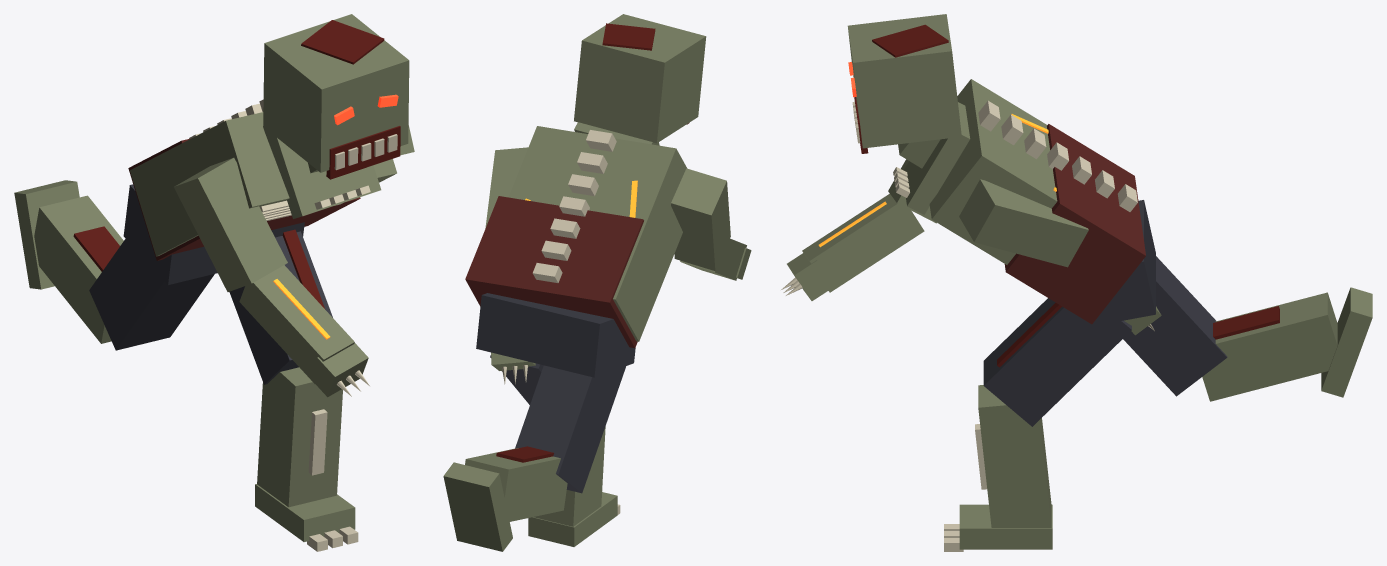
The model's file is zombie-el-desbocado.glb.
3 renders of one model, left to right at view 1: azimuth 30°, elevation 25°; view 2: azimuth 150°, elevation 25°; view 3: azimuth 270°, elevation 25°, orthographic. The views are drawn at different scales.
Visible parts, largest first — view 1: craneo, pecho, espinilla_izq, hombro_der, muslo_der, espinilla_der, antebrazo_der_m, mandibula_hueso, cadera, pie_izq, muslo_izq, pie_der (+7 smaller); view 2: pecho, camiseta, craneo, cadera, muslo_der, hombro_der, pie_der, espinilla_der, pie_izq, espinilla_izq, hombro_izq, cuero_cabelludo (+12 smaller); view 3: camiseta, craneo, muslo_izq, pecho, espinilla_der, espinilla_izq, muslo_der, hombro_izq, antebrazo_der_m, cadera, pie_der, pie_izq (+5 smaller).
Part boxes in pixels (x1=…): craneo: x1=263, y1=14, x2=409, y2=172; pecho: x1=130, y1=112, x2=396, y2=256; espinilla_izq: x1=257, y1=367, x2=342, y2=507; hombro_der: x1=174, y1=157, x2=287, y2=291; muslo_der: x1=89, y1=238, x2=214, y2=350; espinilla_der: x1=34, y1=195, x2=123, y2=343; antebrazo_der_m: x1=239, y1=265, x2=354, y2=383; mandibula_hueso: x1=263, y1=126, x2=381, y2=218; cadera: x1=123, y1=184, x2=304, y2=284; pie_izq: x1=255, y1=484, x2=355, y2=541; muslo_izq: x1=229, y1=231, x2=332, y2=384; pie_der: x1=14, y1=180, x2=79, y2=289; pecho: x1=508, y1=126, x2=687, y2=341; camiseta: x1=465, y1=196, x2=643, y2=348; craneo: x1=574, y1=14, x2=706, y2=143; cadera: x1=476, y1=293, x2=635, y2=377; muslo_der: x1=515, y1=365, x2=625, y2=493; hombro_der: x1=671, y1=168, x2=730, y2=270; pie_der: x1=443, y1=462, x2=512, y2=551; espinilla_der: x1=465, y1=448, x2=567, y2=521; pie_izq: x1=528, y1=492, x2=617, y2=546; espinilla_izq: x1=533, y1=426, x2=605, y2=526; hombro_izq: x1=485, y1=147, x2=528, y2=228; cuero_cabelludo: x1=602, y1=23, x2=655, y2=50; camiseta: x1=1004, y1=124, x2=1145, y2=324; craneo: x1=847, y1=14, x2=961, y2=148; muslo_izq: x1=983, y1=298, x2=1131, y2=426; pecho: x1=929, y1=79, x2=1057, y2=264; espinilla_der: x1=1202, y1=292, x2=1337, y2=401; espinilla_izq: x1=978, y1=385, x2=1051, y2=527; muslo_der: x1=1123, y1=256, x2=1227, y2=396; hombro_izq: x1=959, y1=179, x2=1088, y2=267; antebrazo_der_m: x1=802, y1=193, x2=924, y2=292; cadera: x1=1066, y1=200, x2=1155, y2=329; pie_der: x1=1321, y1=287, x2=1372, y2=397; pie_izq: x1=959, y1=504, x2=1052, y2=549.
Size of the model in its own units: 0.7832 by 1.66 by 1.78.
